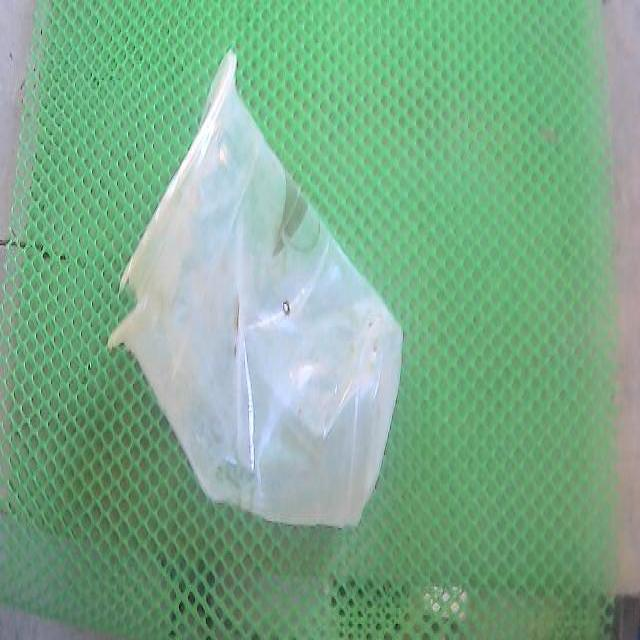bottle: (109, 51, 402, 526)
